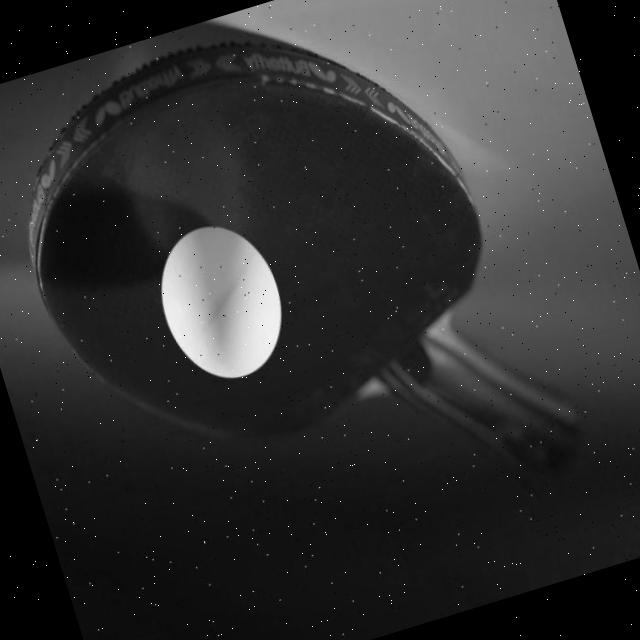ping-pong-ball: (140, 208, 302, 398)
